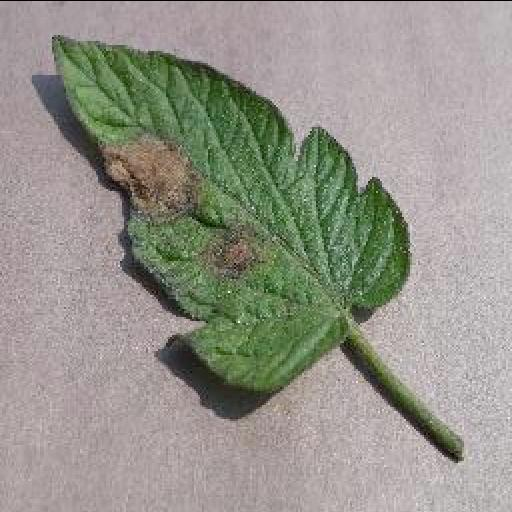disease_tomato: (50, 32, 410, 394)
